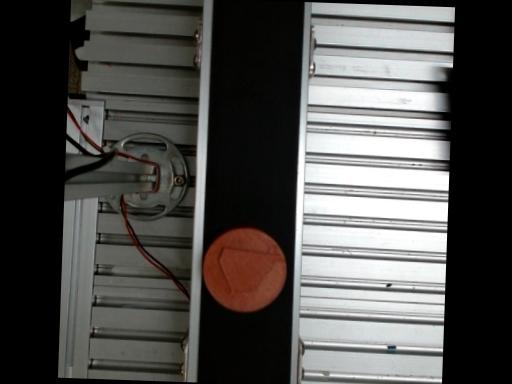Brown_Waper: (203, 227, 286, 311)
Not_Square: (217, 247, 282, 291)
